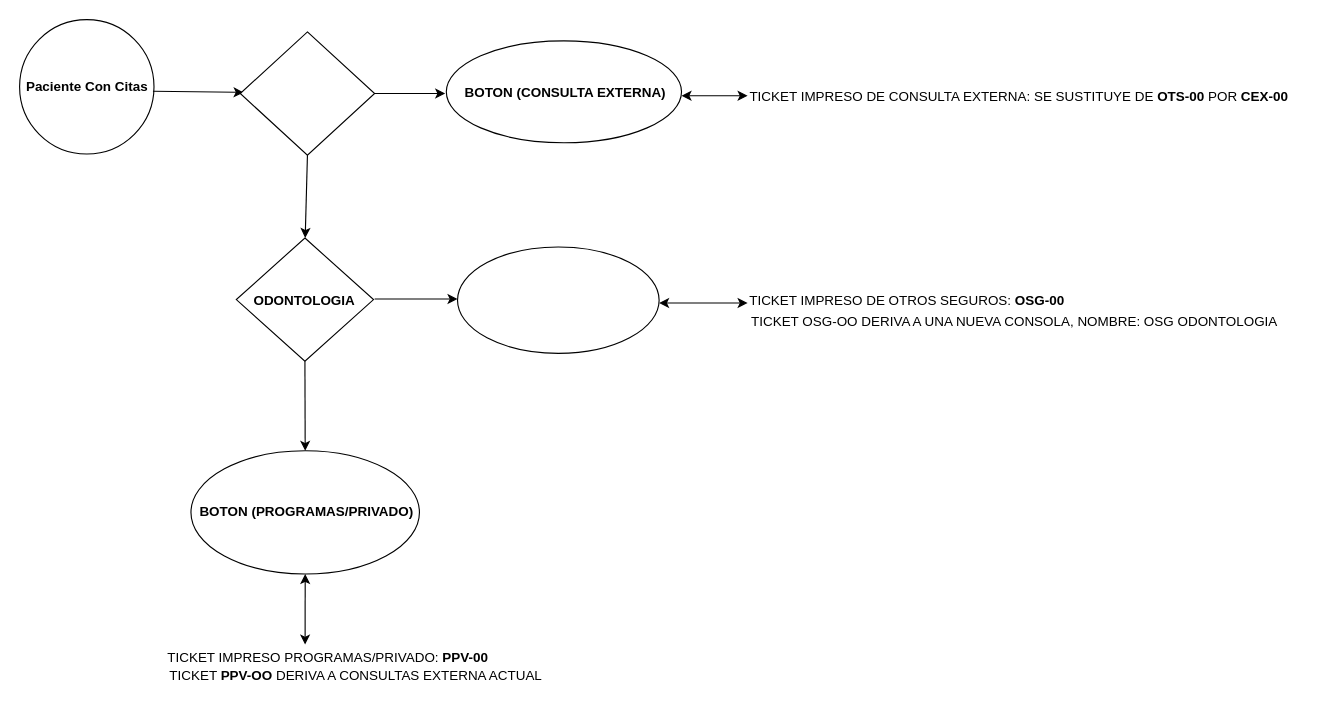
Some shapes in this 1318 by 707 pixel diagram are drawn without their labels. Each missing label, with the centre of its shape:
BOTON (OTROS SEGUROS): pixel 557 299
Otros Servicios: pixel 307 93
